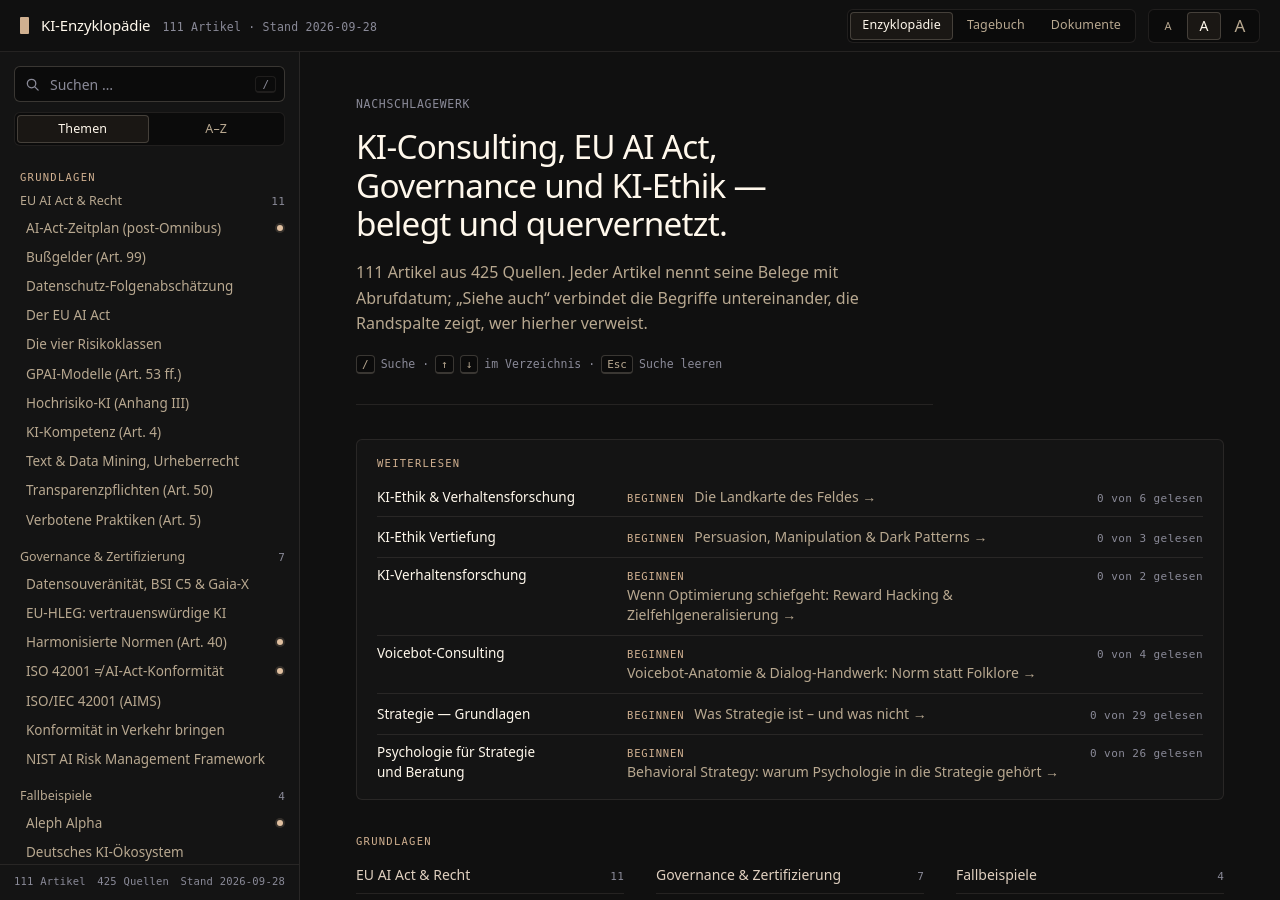
Test case: App › sucht und zeigt Treffer mit Hervorhebung
The width and height of the screenshot is (1280, 900).
Type "bussgeld" into the search field named "Artikel suchen" at (148, 84), box [48, 67, 247, 101]
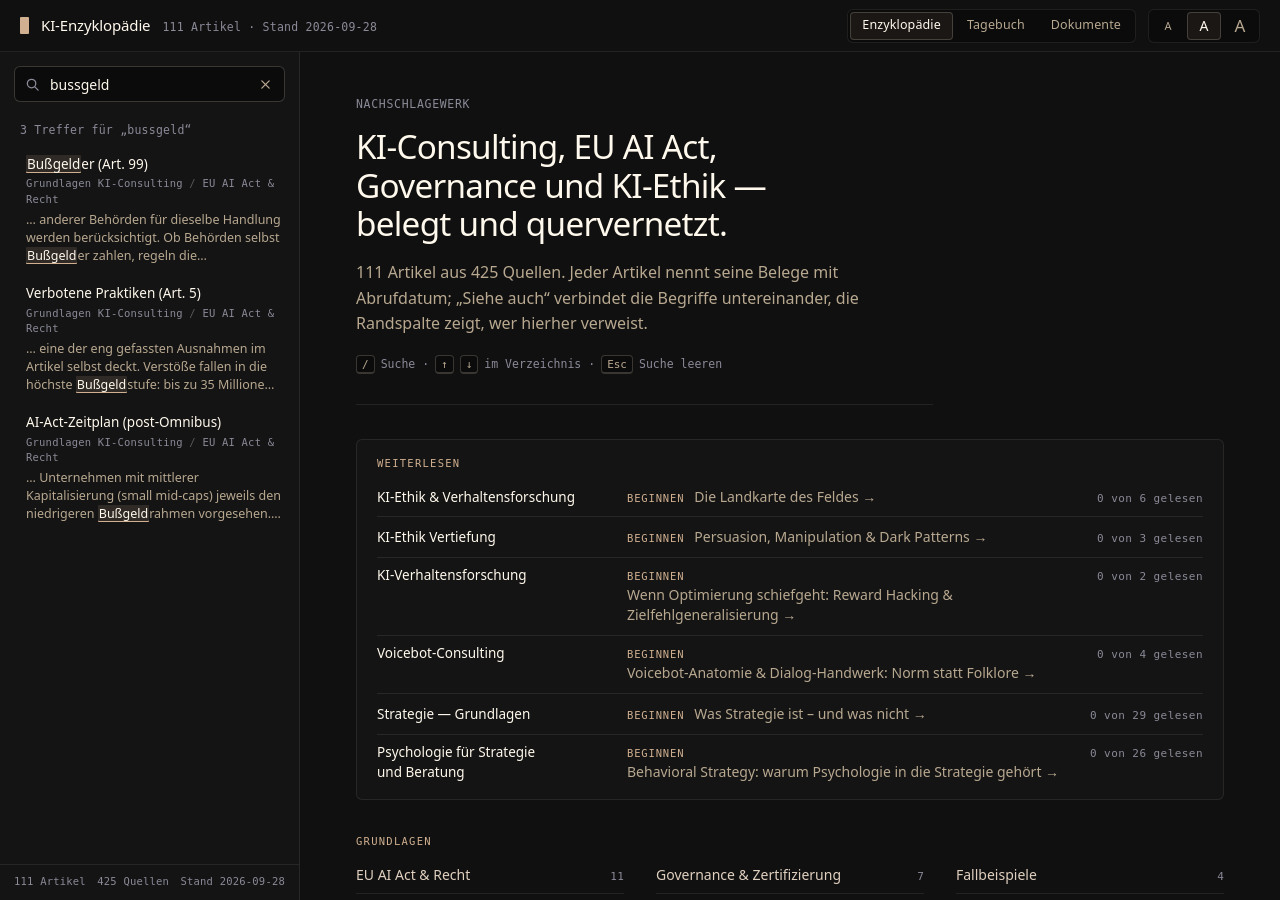
Check: the link that starts with "Bußgeld" shows "Bußgelder (Art. 99)", box [14, 147, 291, 274]
Check: the text "Bußgeld" next to "er (Art. 99)" is shown, box [27, 155, 80, 173]
Press Escape in the search field named "Artikel suchen", box [48, 67, 246, 101]
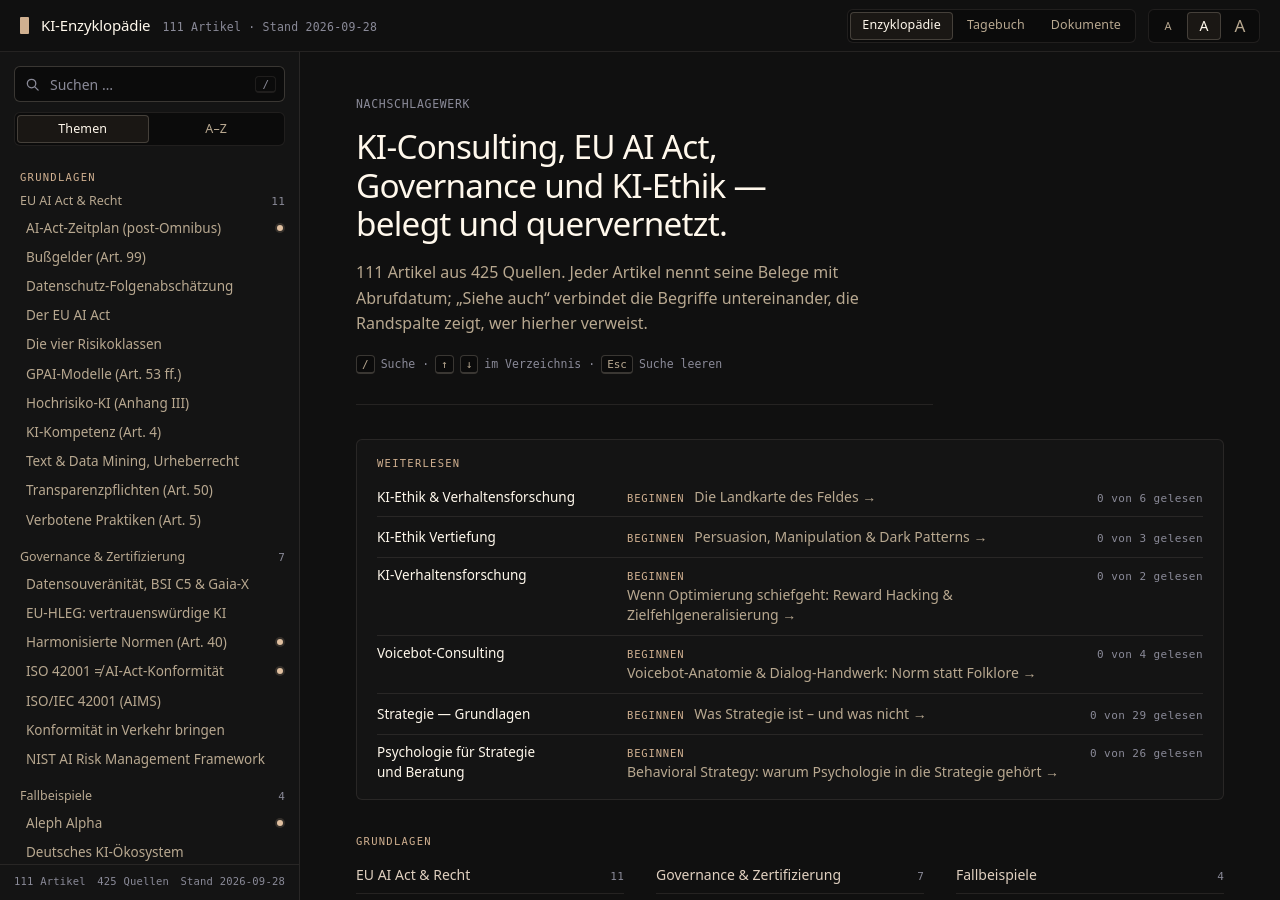
Check: the navigation bar named "Artikelverzeichnis" is shown, box [0, 156, 299, 864]
